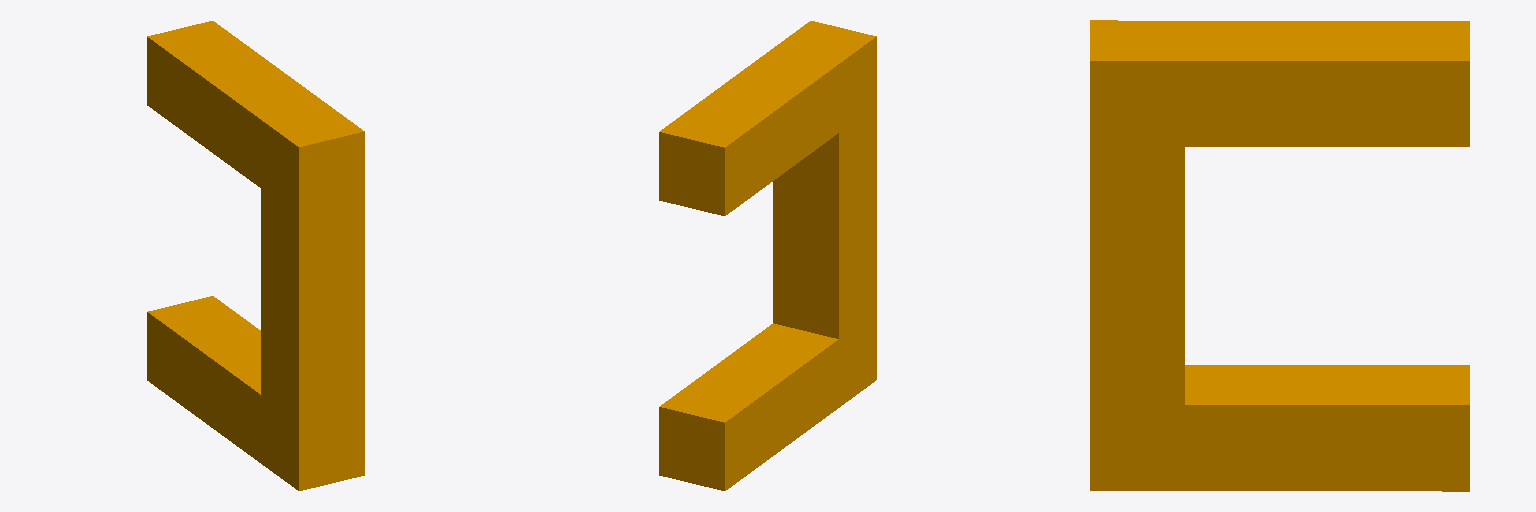
URDF robot description (3x3arch_cube):
<?xml version='1.0' encoding='UTF-8'?>
<robot name="3x3arch_cube">
  <link name="base_link">
    <visual name="base_link_visual">
      <geometry>
        <mesh filename="3X3arch.dae" scale="1. 1. 1."/>
      </geometry>
      <origin xyz="0 0 0" rpy="1.57 0 0"/>
    </visual>
    <collision name="base_link_collision">
      <geometry>
        <mesh filename="3X3arch.dae" scale="1. 1. 1."/>
      </geometry>
      <origin xyz="0 0 0" rpy="1.57 0 0"/>
    </collision>
  </link>
</robot>

--- Render facts (derived) ---
3 views of the same robot in one strip: view 1: azimuth 30°, elevation 25°; view 2: azimuth 150°, elevation 25°; view 3: azimuth 270°, elevation 25° (orthographic).
Model 3x3arch_cube with 1 links and 0 joints (none), rooted at base_link, posed all joints at 0.
Links seen in each view (by area): view 1: base_link; view 2: base_link; view 3: base_link.
Boxes of the visible links, bbox=[...] form: base_link: bbox=[147, 21, 364, 490]; base_link: bbox=[659, 21, 876, 490]; base_link: bbox=[1090, 20, 1469, 491].
Bounding box of the posed robot: 0.3 × 1.2 × 1.5 m (x, y, z).
Meshes: 1 distinct files referenced, 1 mesh visuals loaded (1 Collada DAE).